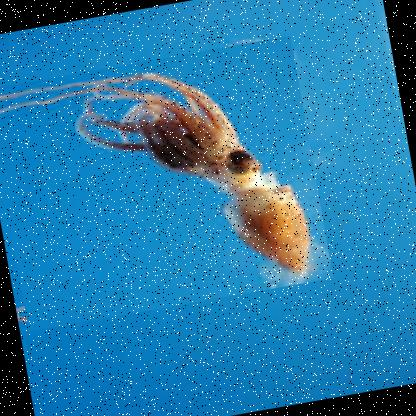colossal_squid: (0, 34, 333, 332)
